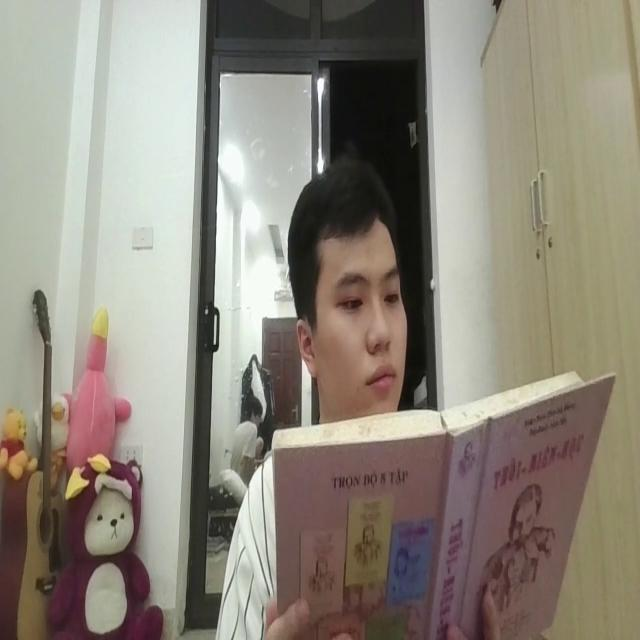book: (258, 364, 616, 640)
student: (288, 154, 410, 414)
